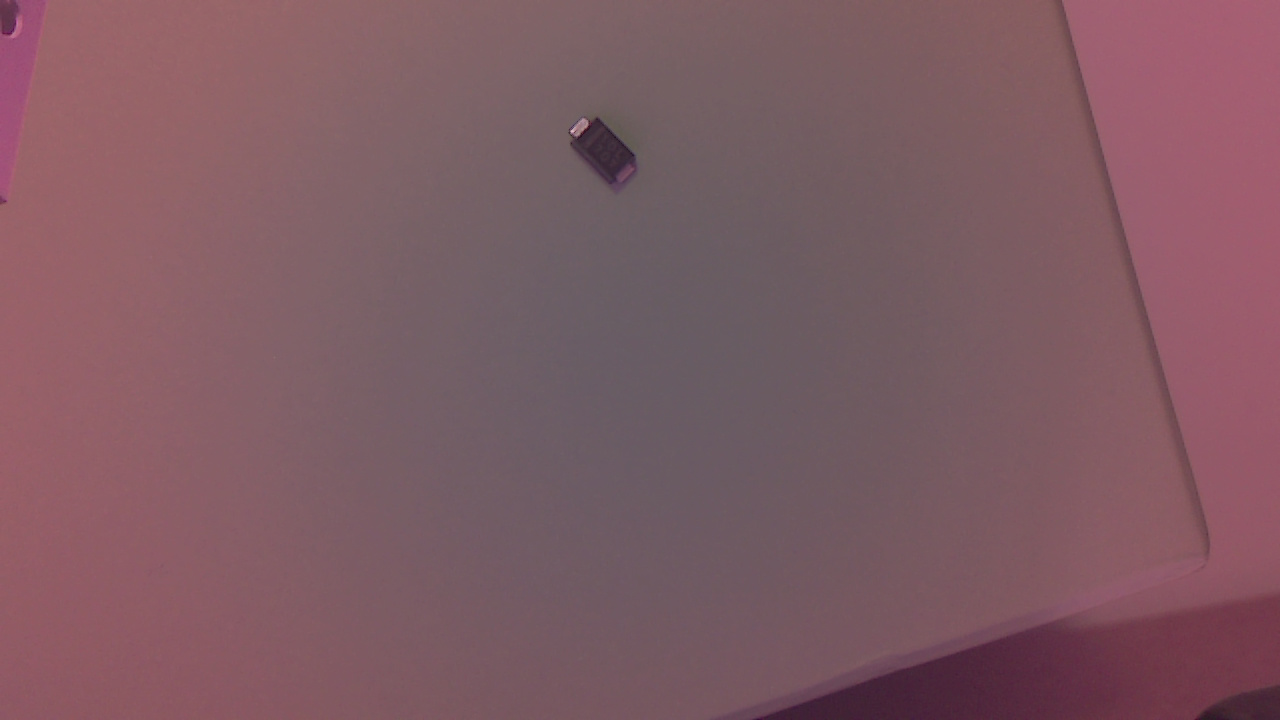Diode: (568, 118, 646, 201)
